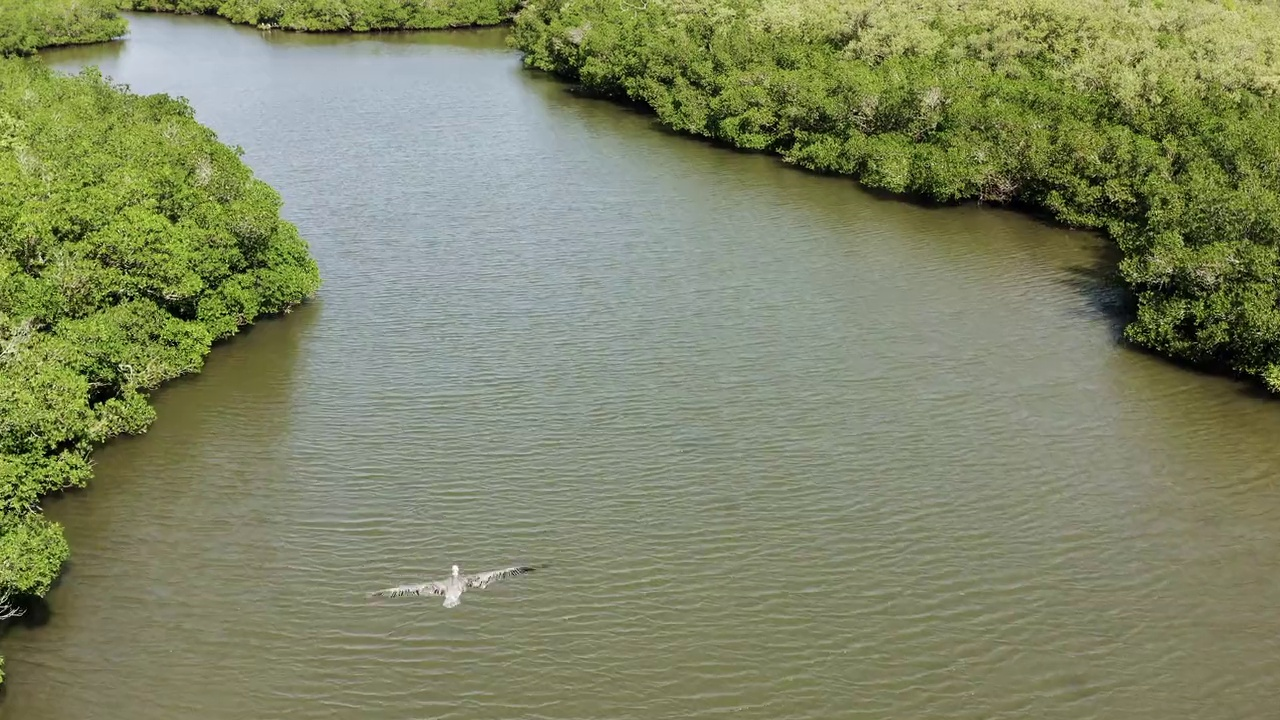bird: (363, 563, 539, 611)
